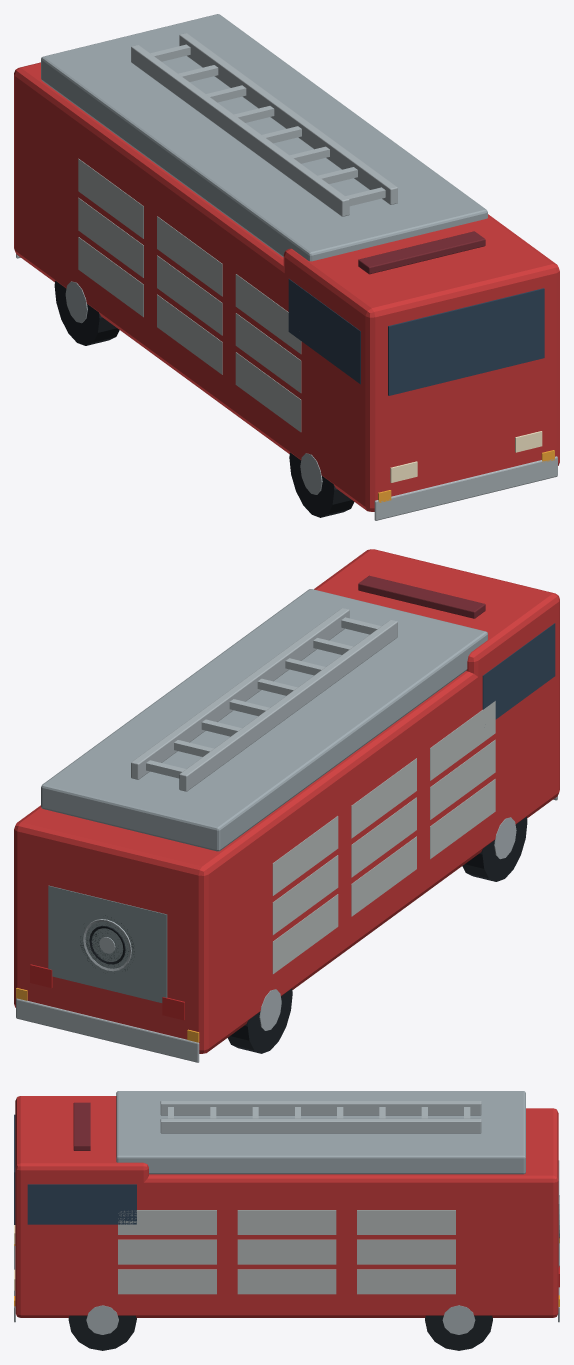
Rendered from npc_fire_engine.glb.
The picture shows the model from 3 angles, top to bottom: view 1: azimuth 30°, elevation 25°; view 2: azimuth 150°, elevation 25°; view 3: azimuth 270°, elevation 25°; orthographic projection. The views are drawn at different scales.
Parts seen in each view (by area): view 1: body, equipment_deck, cab, windshield, ladder_rail_R, ladder_rail_L, crew_glass_R, front_bumper, shutter_0_R_0, shutter_0_R_1, shutter_1_R_0, shutter_1_R_1 (+10 smaller); view 2: body, equipment_deck, cab, hose_recess, ladder_rail_R, ladder_rail_L, rear_bumper, crew_glass_R, shutter_2_R_2, shutter_2_R_0, shutter_2_R_1, shutter_0_R_0 (+10 smaller); view 3: body, equipment_deck, cab, ladder_rail_L, crew_glass_L, ladder_rail_R, shutter_1_L_0, shutter_1_L_1, shutter_0_L_0, shutter_0_L_1, shutter_2_L_0, shutter_2_L_1 (+8 smaller).
Part boxes in pixels (left/top/right/bottom): body: left=14, top=62, right=559, bottom=511; equipment_deck: left=41, top=14, right=487, bottom=261; cab: left=283, top=214, right=559, bottom=506; windshield: left=388, top=288, right=544, bottom=395; ladder_rail_R: left=131, top=45, right=349, bottom=216; ladder_rail_L: left=179, top=33, right=397, bottom=204; crew_glass_R: left=288, top=279, right=360, bottom=384; front_bumper: left=374, top=456, right=557, bottom=520; shutter_0_R_0: left=235, top=352, right=301, bottom=432; shutter_0_R_1: left=235, top=313, right=301, bottom=392; shutter_1_R_0: left=157, top=294, right=222, bottom=374; shutter_1_R_1: left=157, top=255, right=222, bottom=335; body: left=14, top=617, right=559, bottom=1053; equipment_deck: left=41, top=589, right=487, bottom=851; cab: left=314, top=549, right=559, bottom=854; hose_recess: left=48, top=885, right=167, bottom=1002; ladder_rail_R: left=179, top=620, right=397, bottom=791; ladder_rail_L: left=131, top=608, right=349, bottom=779; rear_bumper: left=16, top=998, right=199, bottom=1062; crew_glass_R: left=482, top=623, right=555, bottom=719; shutter_2_R_2: left=272, top=816, right=338, bottom=895; shutter_2_R_0: left=272, top=894, right=338, bottom=973; shutter_2_R_1: left=272, top=855, right=338, bottom=934; shutter_0_R_0: left=430, top=779, right=495, bottom=859; body: left=15, top=1108, right=558, bottom=1317; equipment_deck: left=116, top=1091, right=525, bottom=1174; cab: left=15, top=1096, right=148, bottom=1317; ladder_rail_L: left=160, top=1118, right=481, bottom=1133; crew_glass_L: left=27, top=1184, right=136, bottom=1224; ladder_rail_R: left=160, top=1101, right=481, bottom=1115; shutter_1_L_0: left=237, top=1269, right=336, bottom=1294; shutter_1_L_1: left=237, top=1239, right=336, bottom=1264; shutter_0_L_0: left=118, top=1269, right=216, bottom=1294; shutter_0_L_1: left=118, top=1239, right=216, bottom=1264; shutter_2_L_0: left=357, top=1269, right=455, bottom=1294; shutter_2_L_1: left=357, top=1239, right=455, bottom=1264.
Size of the model in its own units: 2.5 by 3.3 by 8.
